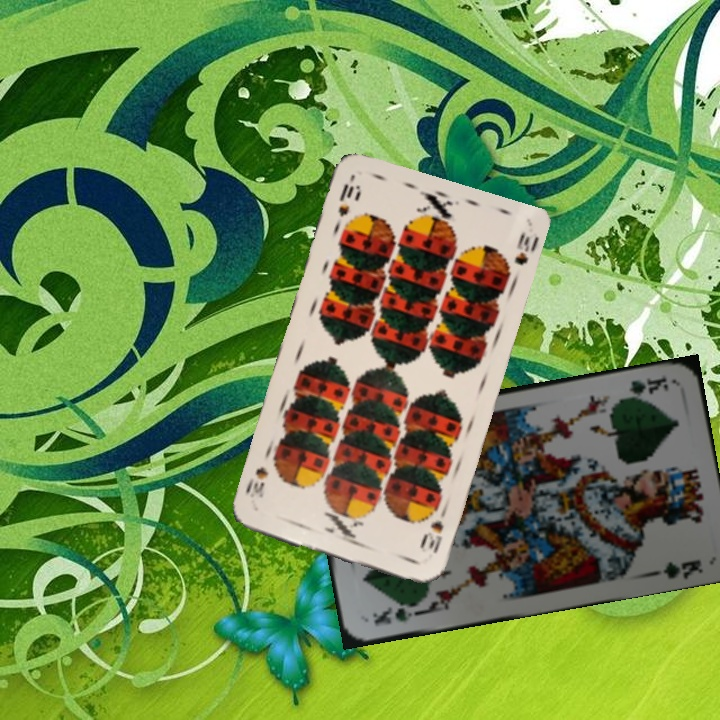GK: (619, 372, 671, 402), (369, 604, 423, 628)
S10: (418, 505, 449, 556), (334, 179, 361, 220)
